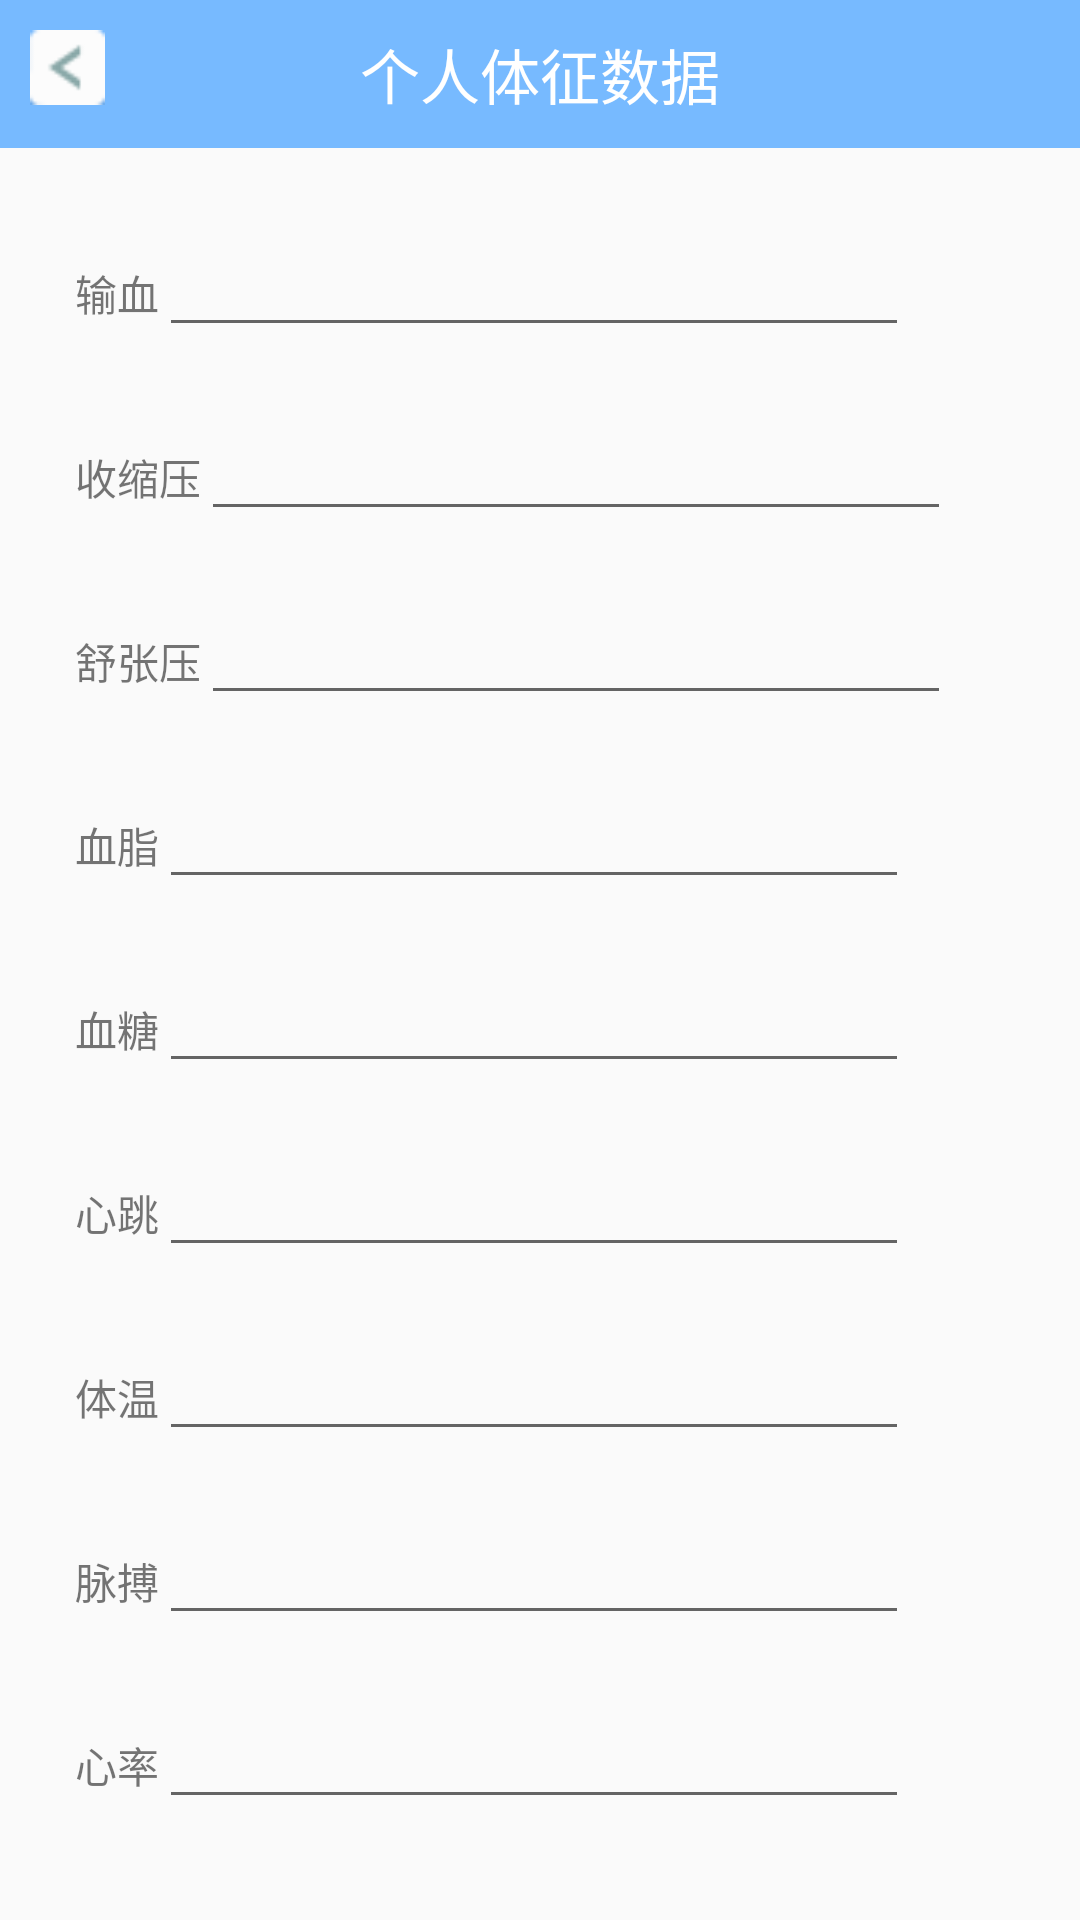

Where icons sit on this 1080px x 1920px app screen, as (left=x1, top=y1, right=x2, bottom=y2):
left: (left=30, top=30, right=105, bottom=105)
